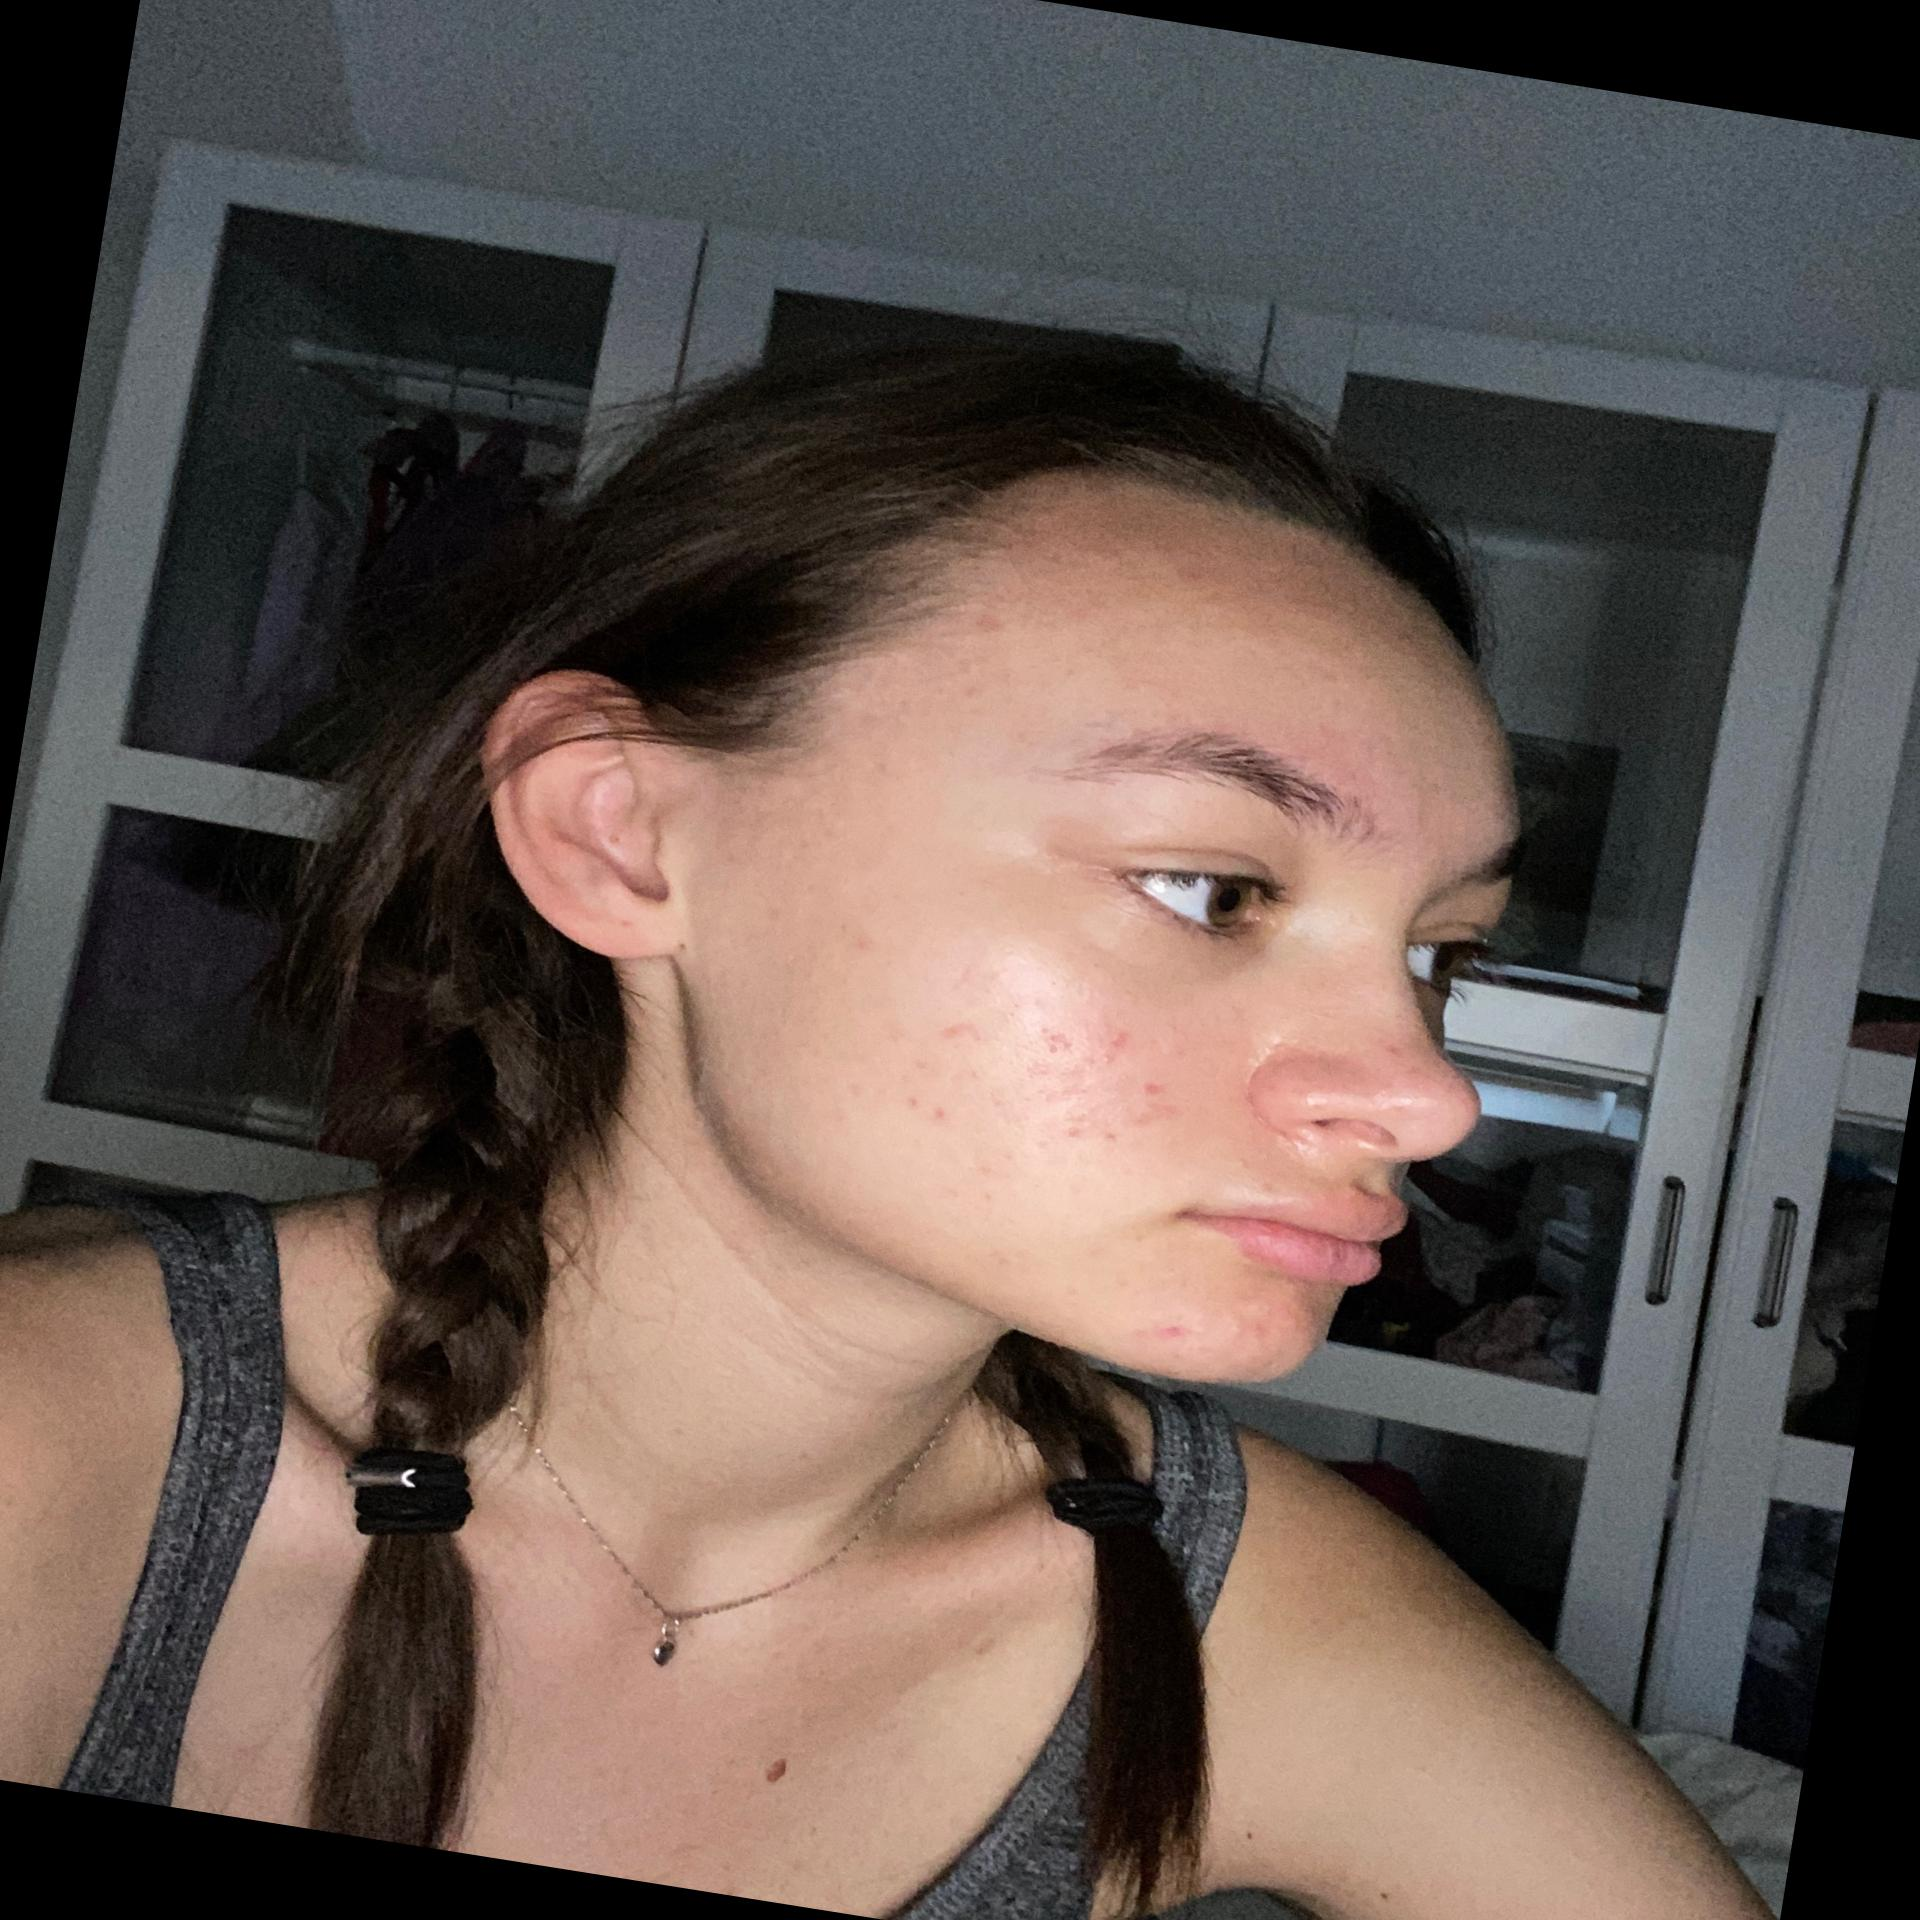Acne: (1016, 1057, 1097, 1111), (1131, 1076, 1178, 1129), (1125, 1313, 1190, 1347), (1057, 1116, 1124, 1148), (1092, 1020, 1132, 1071), (895, 1088, 951, 1124), (969, 608, 1015, 642), (1229, 1312, 1278, 1342), (1034, 1022, 1074, 1057), (939, 1015, 981, 1043), (847, 932, 886, 960), (1380, 1037, 1407, 1062)
